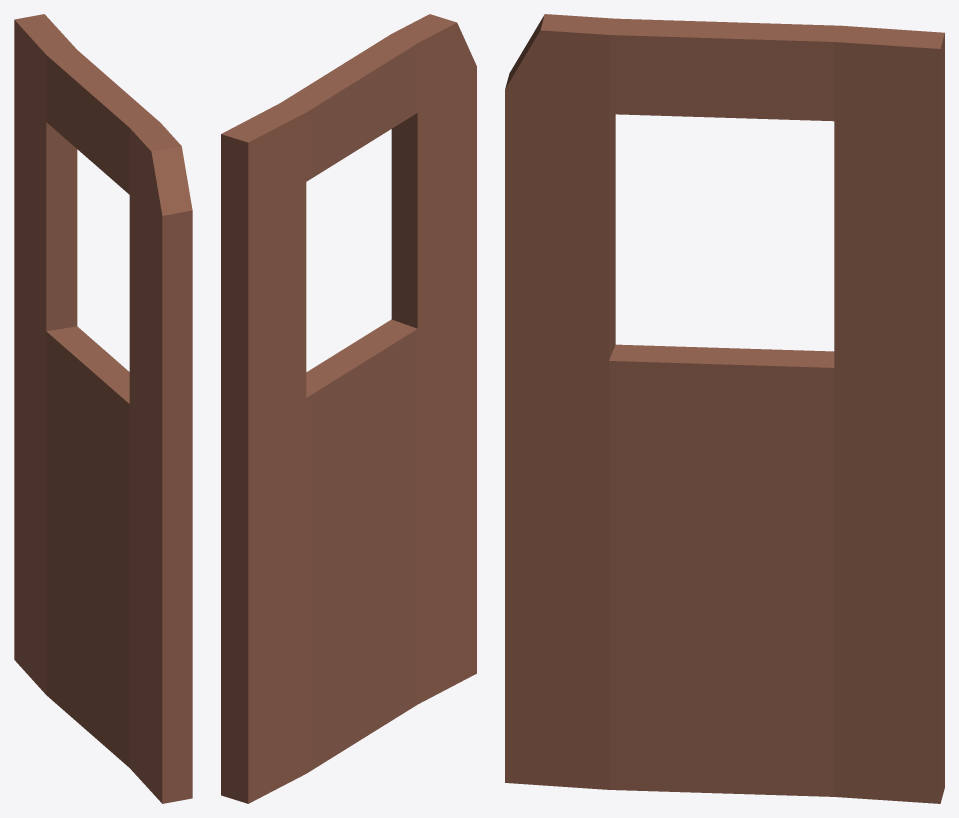
The model's file is door.fbx.
The picture shows the model from 3 angles, left to right: view 1: azimuth 30°, elevation 25°; view 2: azimuth 150°, elevation 25°; view 3: azimuth 270°, elevation 25°; orthographic projection. The views are drawn at different scales.
Visible parts, largest first — view 1: Cube.007; view 2: Cube.007; view 3: Cube.007.
Boxes of the visible parts, x1=… form: Cube.007: x1=14, y1=14, x2=192, y2=803; Cube.007: x1=221, y1=14, x2=476, y2=803; Cube.007: x1=505, y1=14, x2=944, y2=803.
Size of the model in its own units: 85.45 by 805 by 425.
